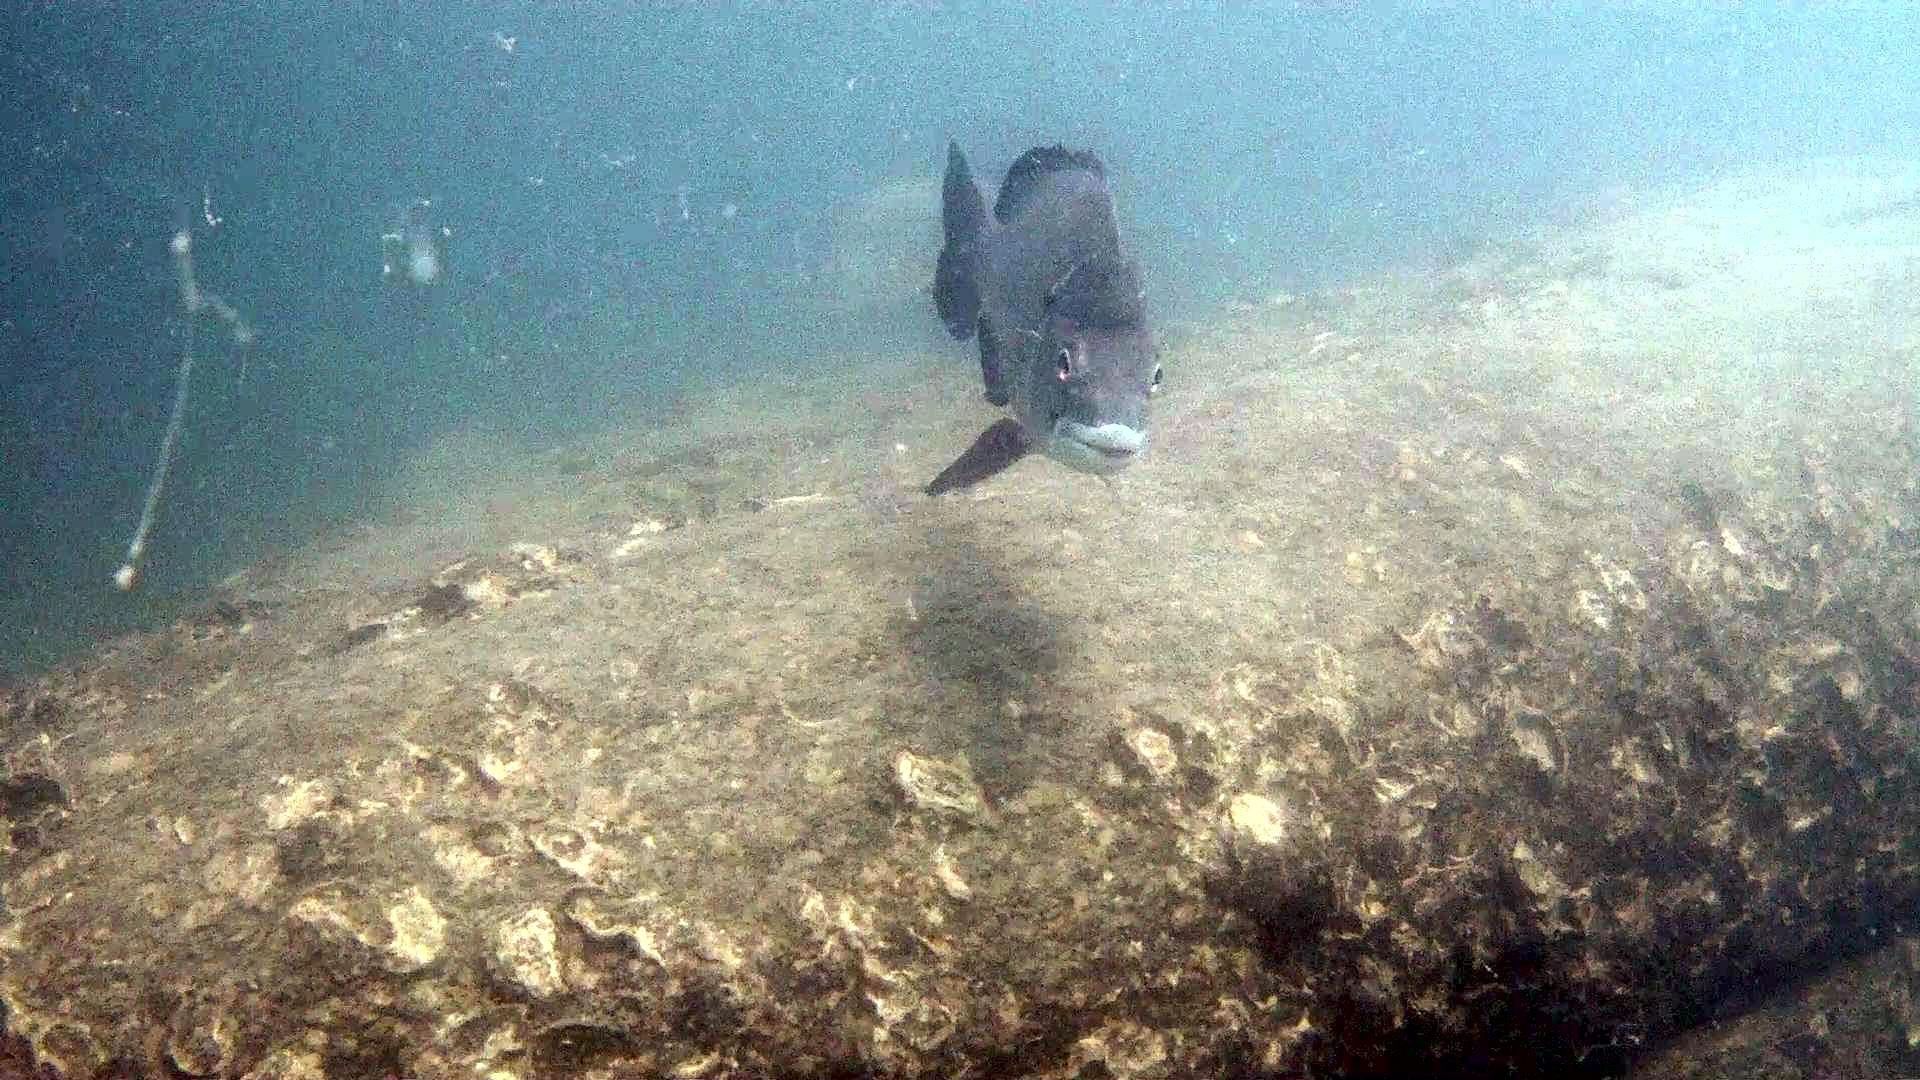acanthopagrus palmaris: (898, 116, 1176, 524)
